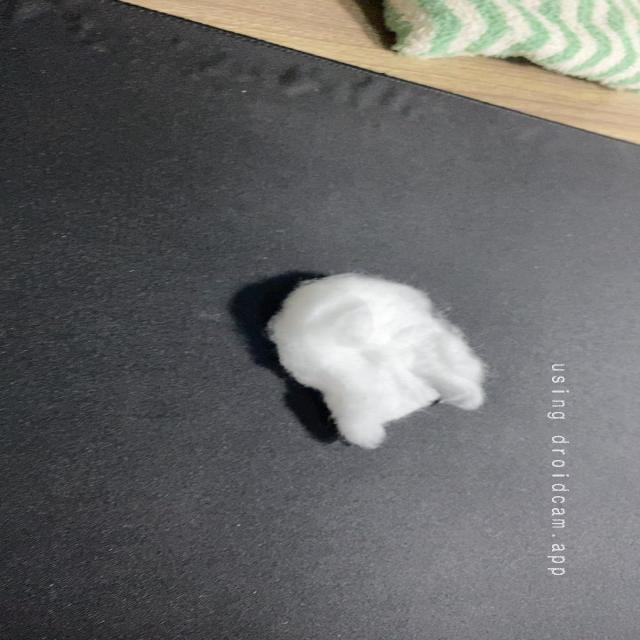cotton: (261, 265, 492, 452)
